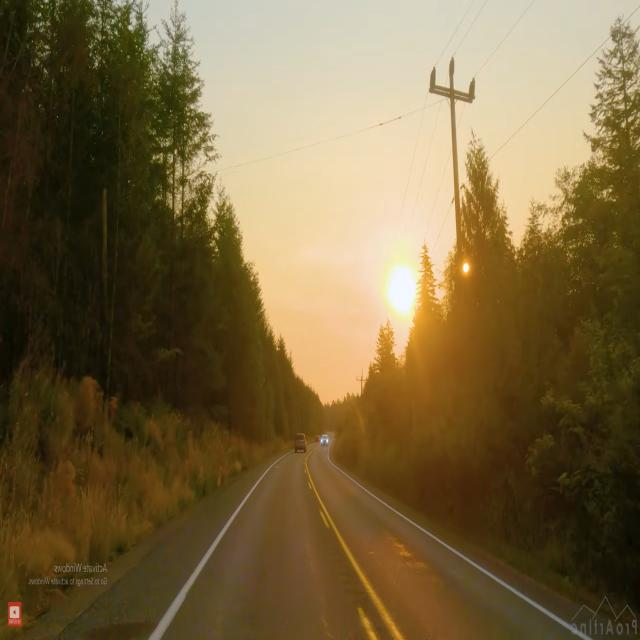sun: (381, 251, 422, 318)
